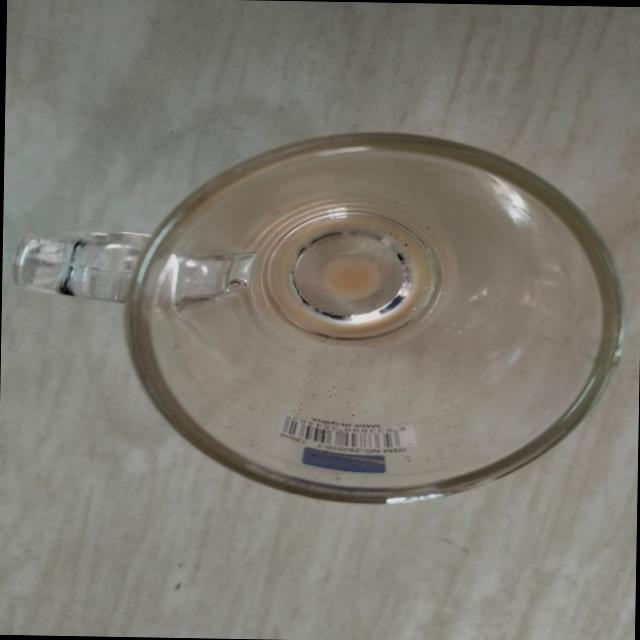glass-VX4N: (4, 121, 627, 510)
